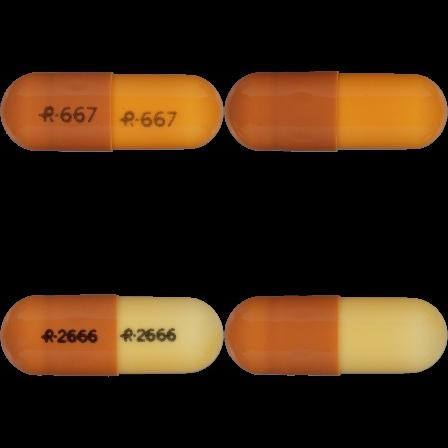0615-1377: (0, 0, 224, 224)
